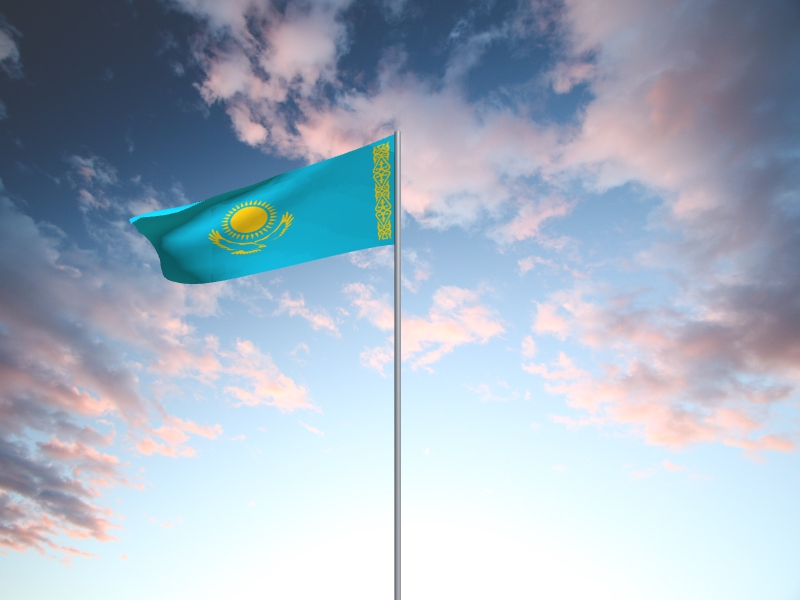kz: (130, 134, 395, 286)
